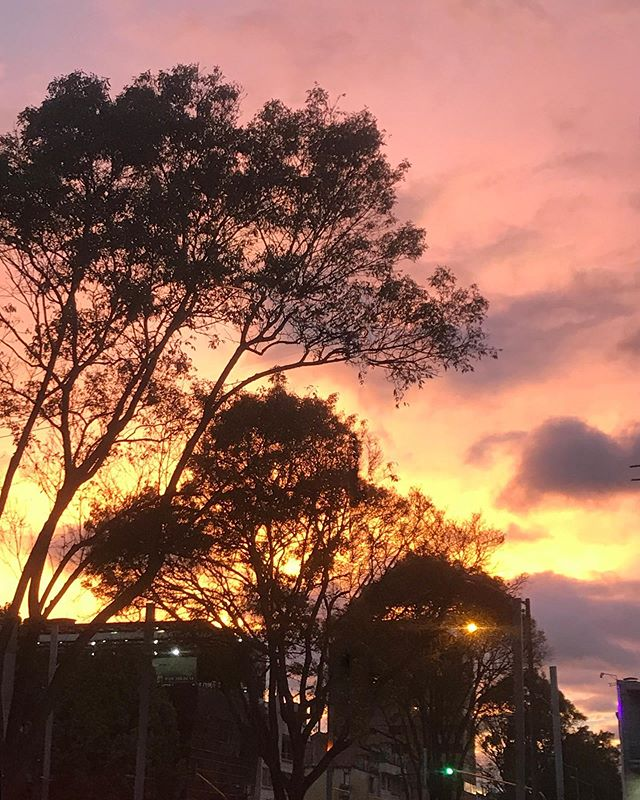sky: (290, 1, 639, 624)
tree: (1, 94, 405, 577), (139, 405, 449, 800), (377, 560, 529, 800)
